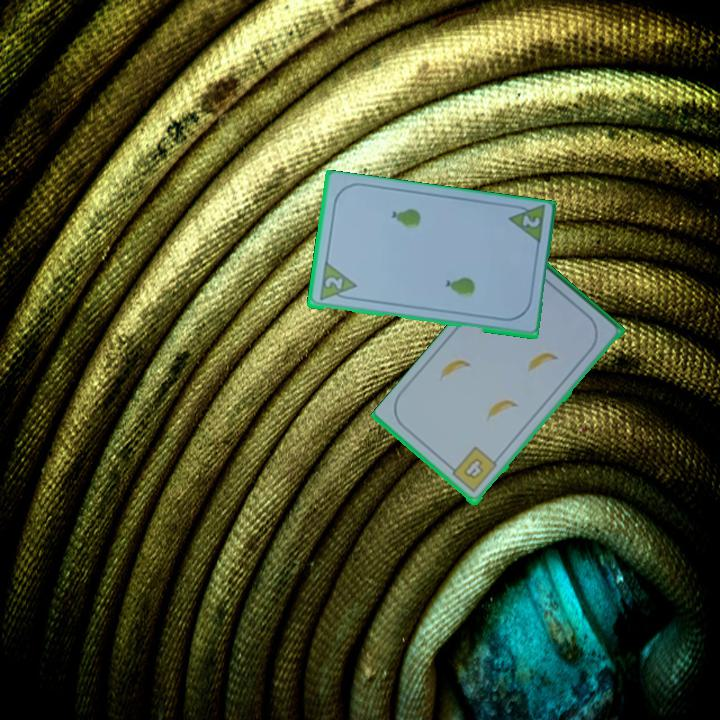2p: (518, 212, 543, 231), (321, 274, 345, 293)
4b: (445, 443, 500, 496)
